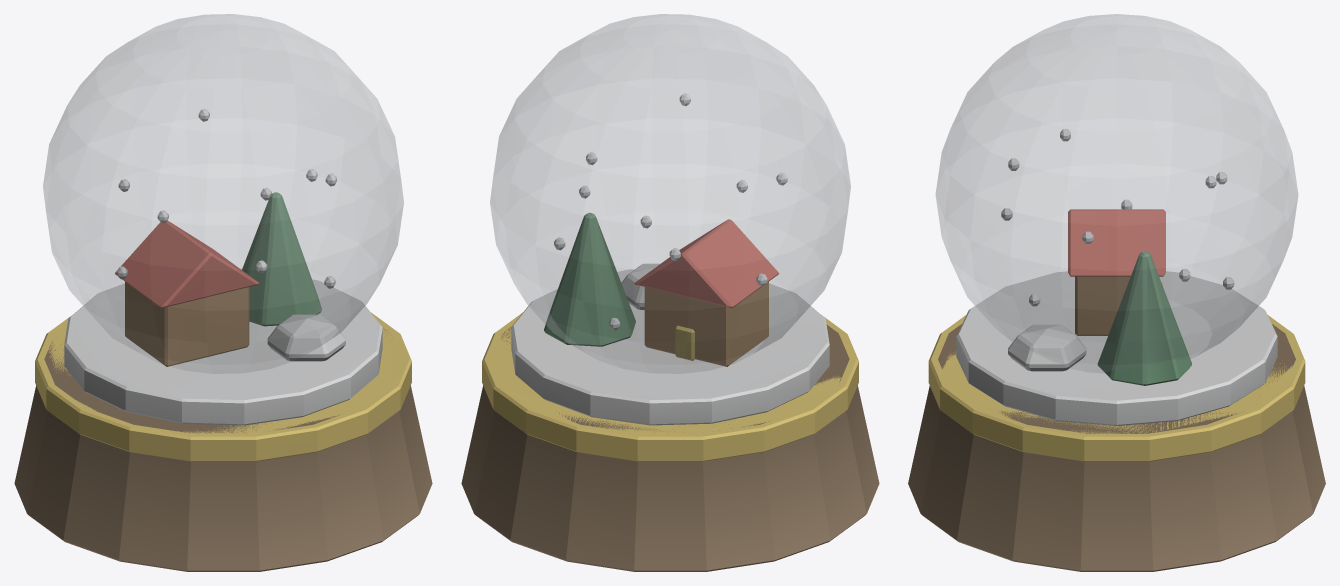
Rendered from xmas_snow_globe.glb.
3 views of the same model, side by side, from view 1: azimuth 30°, elevation 25°; view 2: azimuth 150°, elevation 25°; view 3: azimuth 270°, elevation 25° (orthographic).
Bounding box in the file's own units: 0.2948 × 0.36 × 0.2993.
